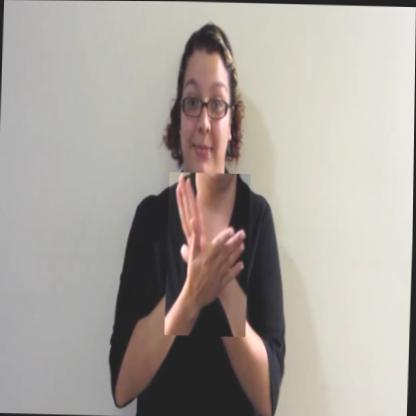NiceToMeetYou: (165, 171, 251, 336)
